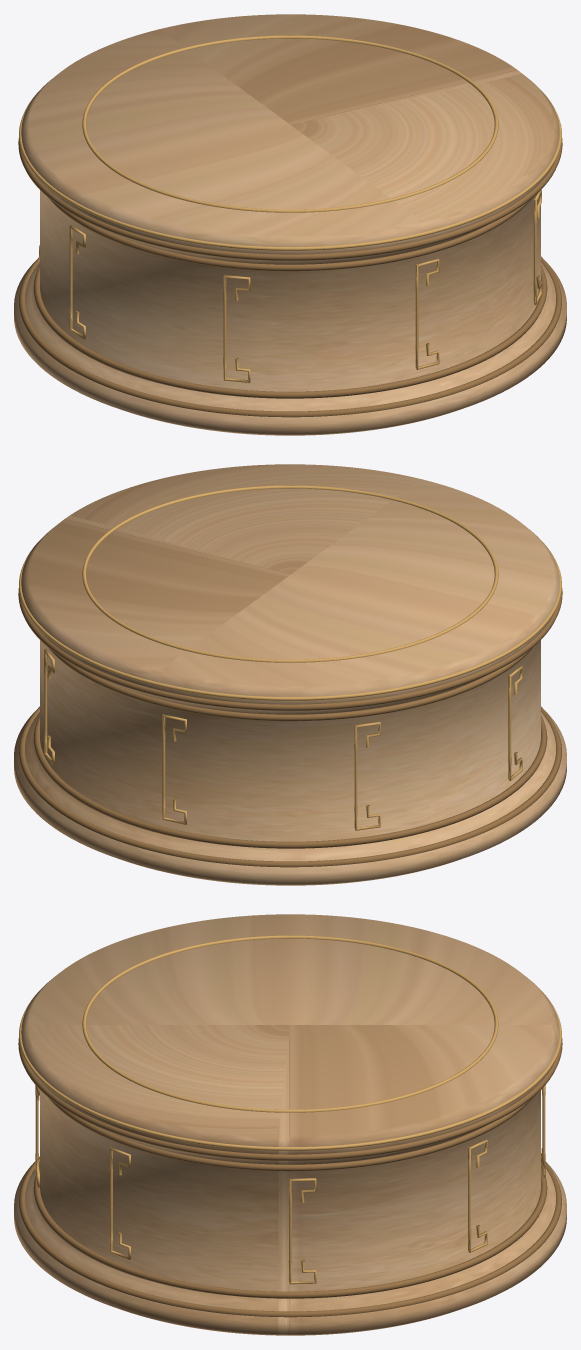
File: restoration-plinth.glb
The picture shows the model from 3 angles, top to bottom: view 1: azimuth 30°, elevation 25°; view 2: azimuth 150°, elevation 25°; view 3: azimuth 270°, elevation 25°; orthographic projection.
Visible parts, largest first — view 1: restoration-plinth_Warm ivory limestone, restoration-plinth_Aged bronze band, restoration-plinth_Brass inlay; view 2: restoration-plinth_Warm ivory limestone, restoration-plinth_Aged bronze band, restoration-plinth_Brass inlay; view 3: restoration-plinth_Warm ivory limestone, restoration-plinth_Aged bronze band, restoration-plinth_Brass inlay.
Part boxes in pixels (<box>): restoration-plinth_Warm ivory limestone: <box>14,14,566,435</box>; restoration-plinth_Aged bronze band: <box>18,138,562,417</box>; restoration-plinth_Brass inlay: <box>19,35,561,382</box>; restoration-plinth_Warm ivory limestone: <box>14,464,566,885</box>; restoration-plinth_Aged bronze band: <box>18,588,562,867</box>; restoration-plinth_Brass inlay: <box>19,485,561,830</box>; restoration-plinth_Warm ivory limestone: <box>14,914,566,1335</box>; restoration-plinth_Aged bronze band: <box>18,1038,562,1317</box>; restoration-plinth_Brass inlay: <box>19,935,561,1284</box>.
Size of the model in its own units: 2.24 by 0.9 by 2.24.
Materials: 3 (1 with a texture image).
